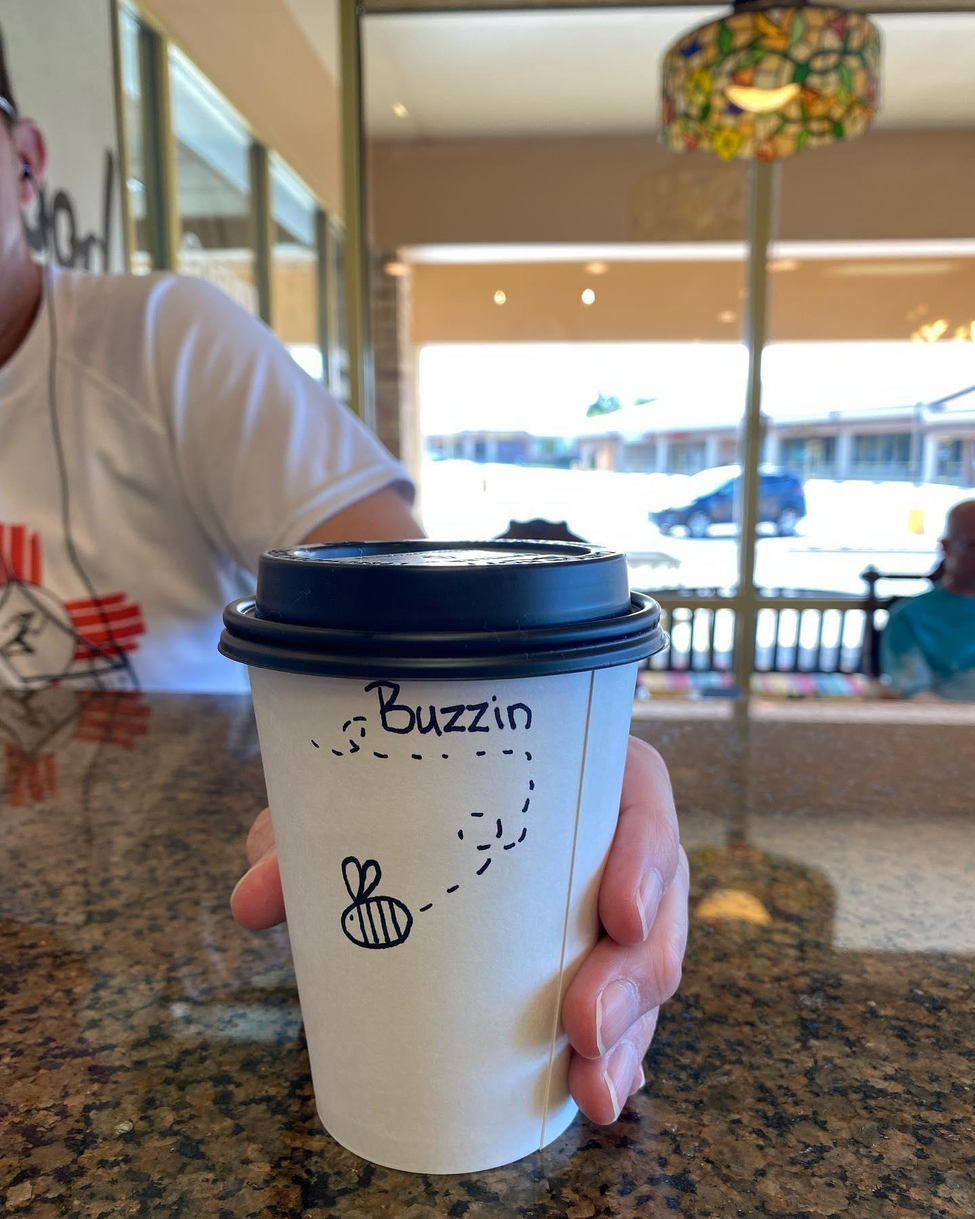cup-disposable: (218, 522, 680, 1189)
